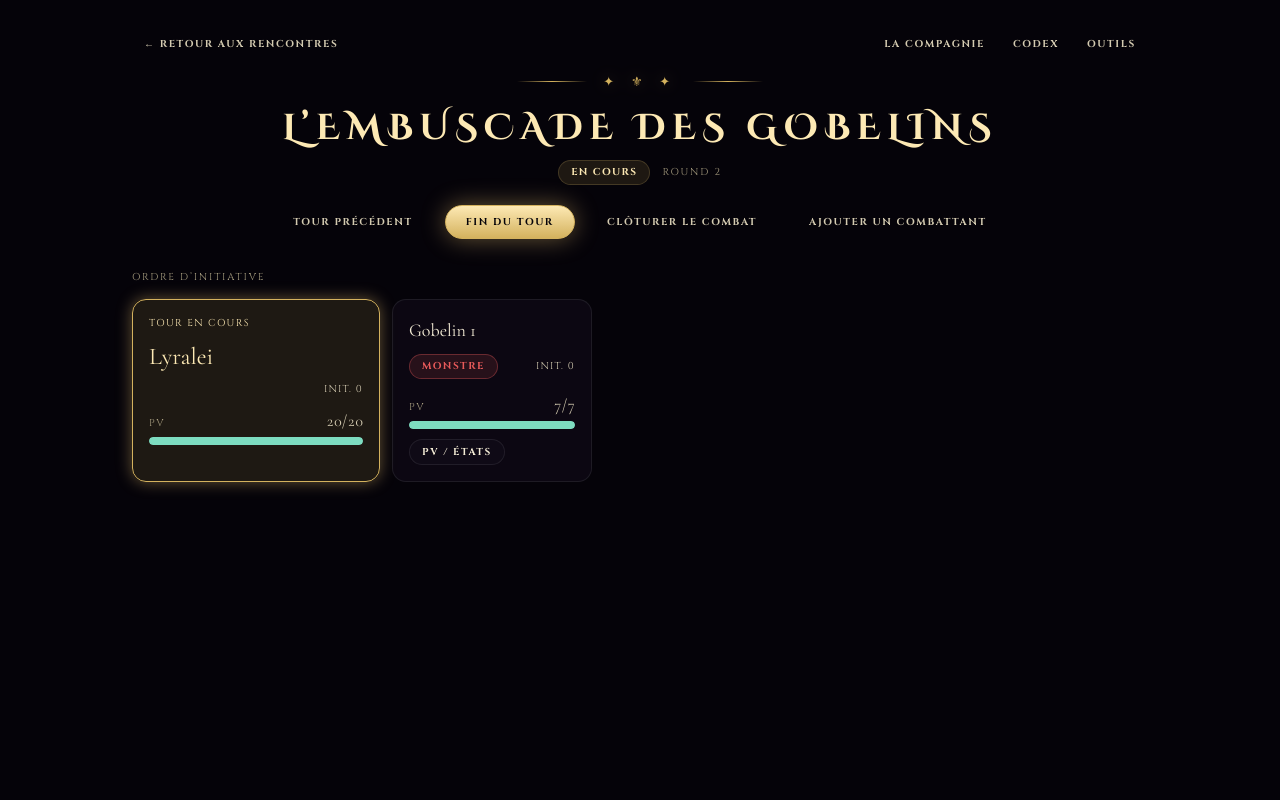
Test: <EncounterScreen> — outils du meneur en superposition (E12) › le MJ ouvre jet secret + bloc-notes sans démonter le tracker
Check: the dialog "Outils du meneur" is not shown
Click the button "Outils" at point(1112, 44), box [1075, 32, 1148, 56]
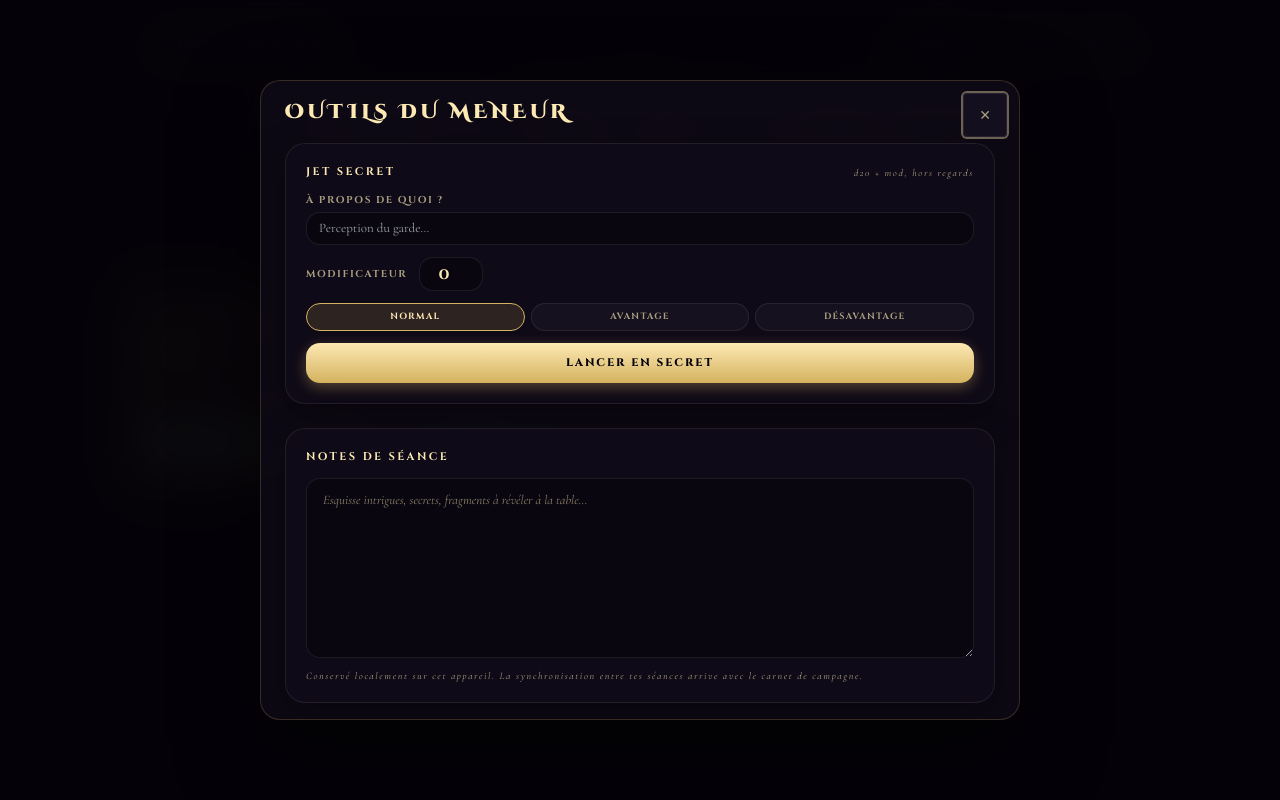
Check: the text "Gobelin 1" is shown, box [409, 316, 476, 344]
Check: the button "Lancer en secret" is shown, box [306, 343, 974, 383]
Check: the heading "Notes de séance" is shown, box [306, 449, 449, 466]
